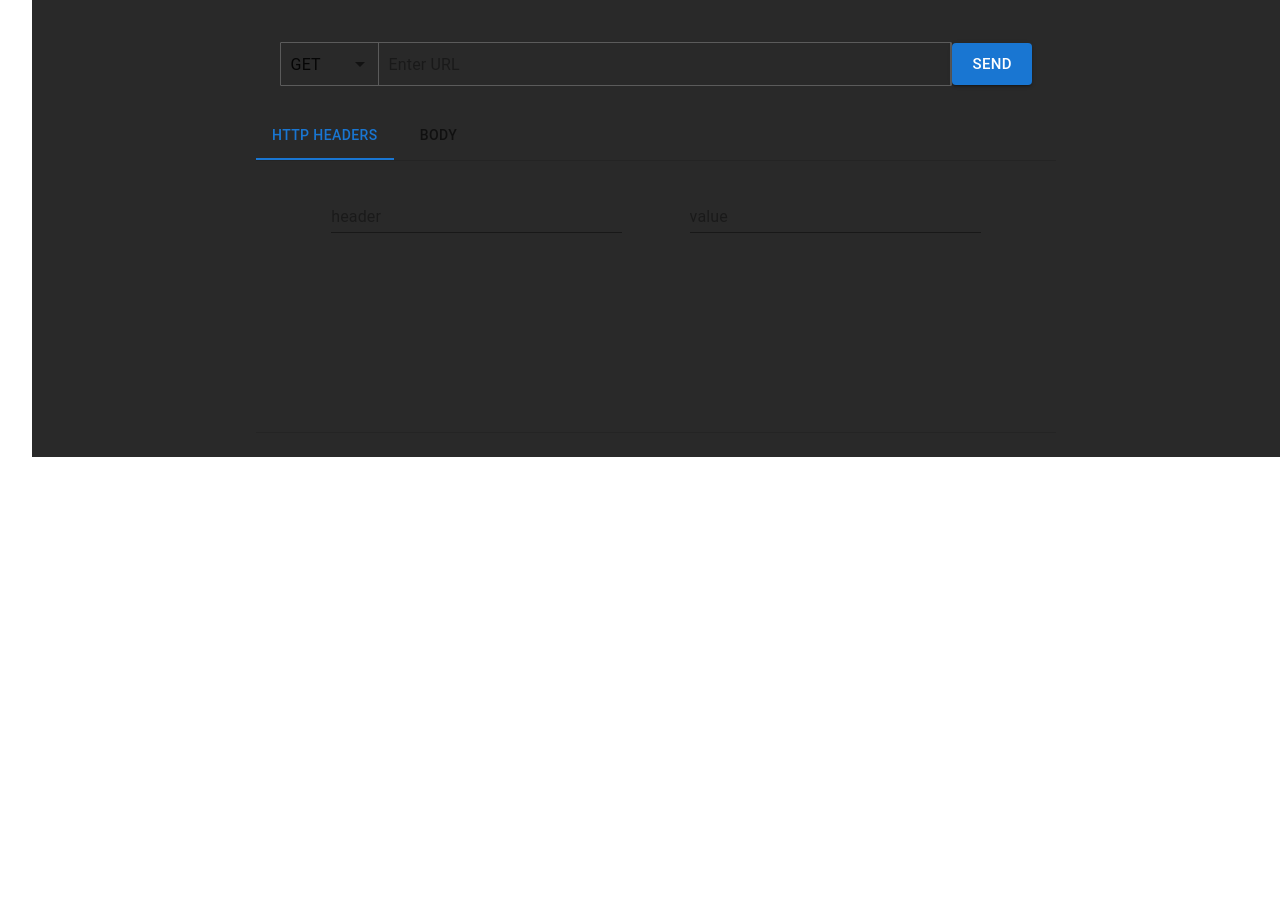
Scenario: RestClient page › handles successful request
Click the button "Send": (992, 64) [952,43,1032,85]
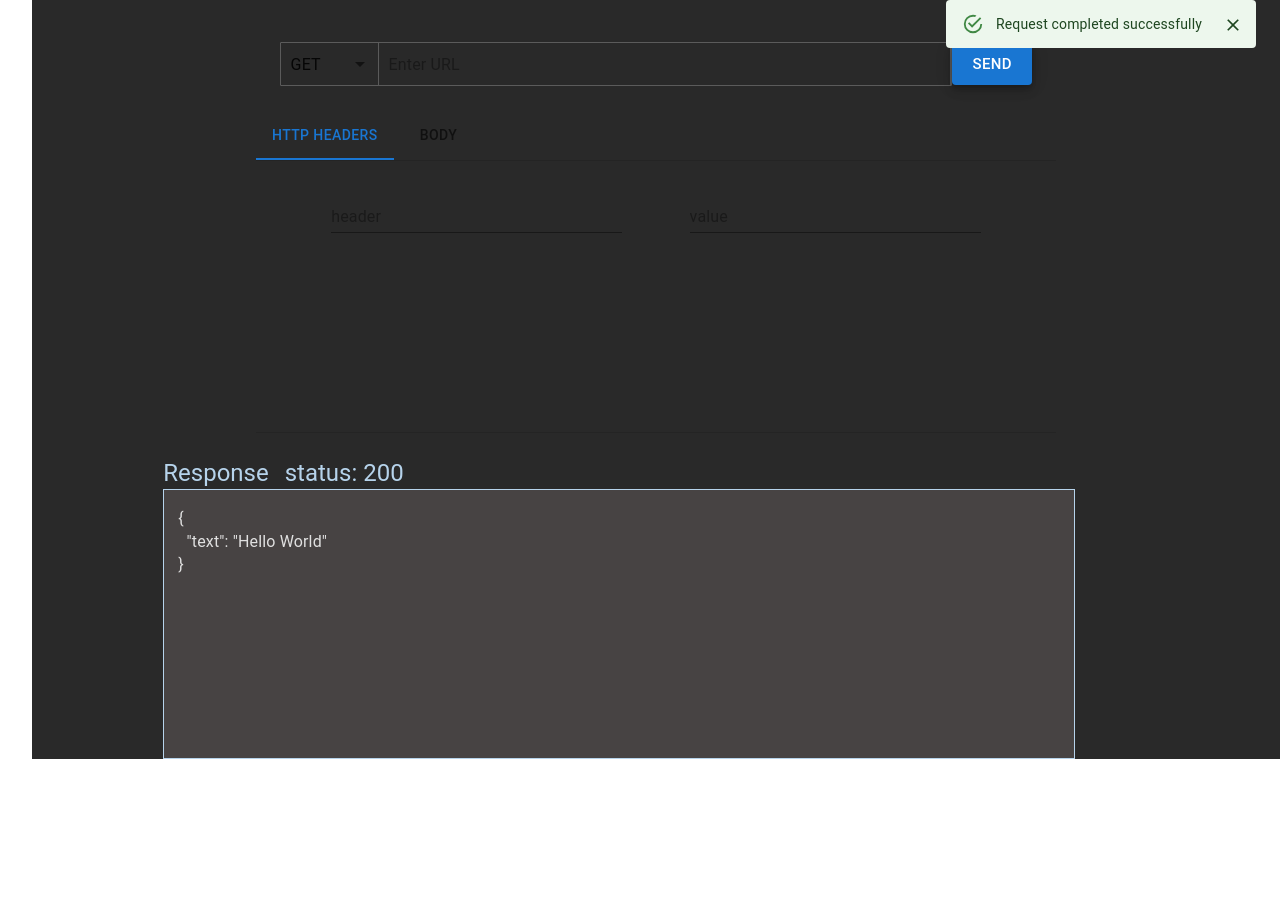
Check: the message reads "Request completed successfully", box [996,16,1202,32]
Check: the heading "Response" is shown, box [163,457,269,489]
Check: the heading "status: 200" is shown, box [285,457,404,489]
